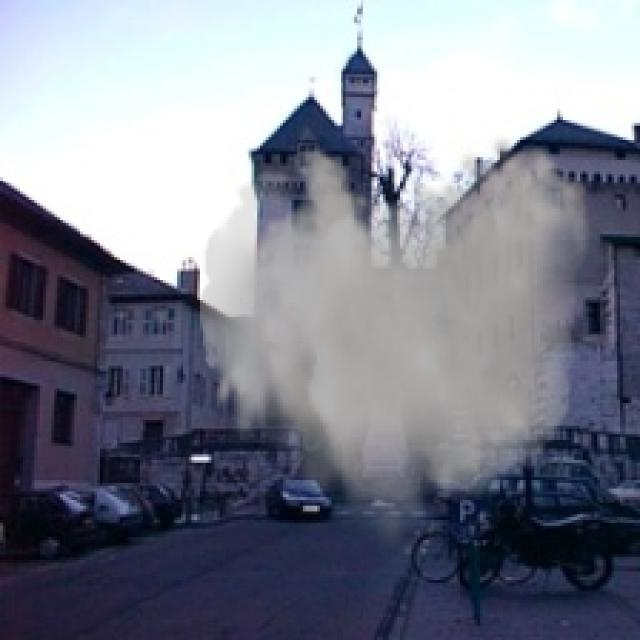Smoke: (199, 135, 592, 554)
